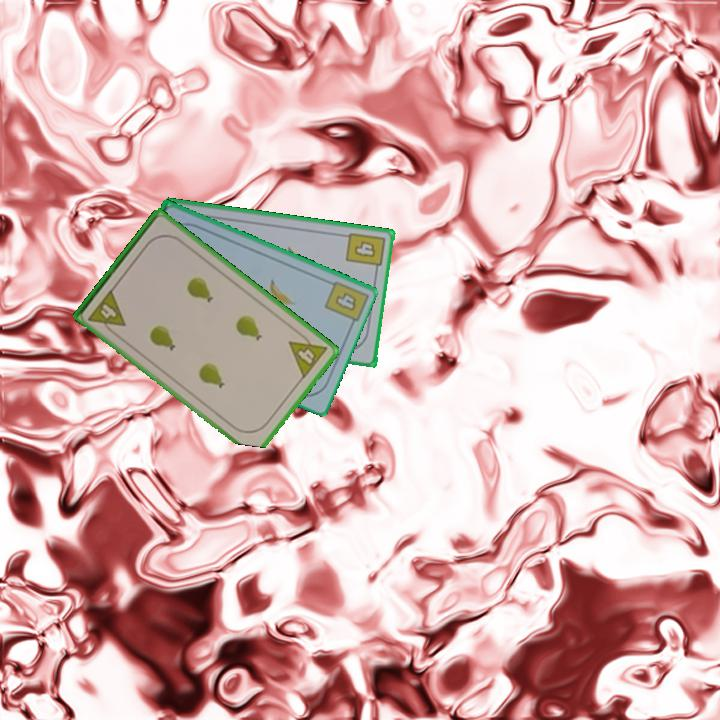4b: (342, 228, 388, 276), (332, 288, 360, 314)
4p: (285, 327, 331, 382), (85, 285, 129, 338)
